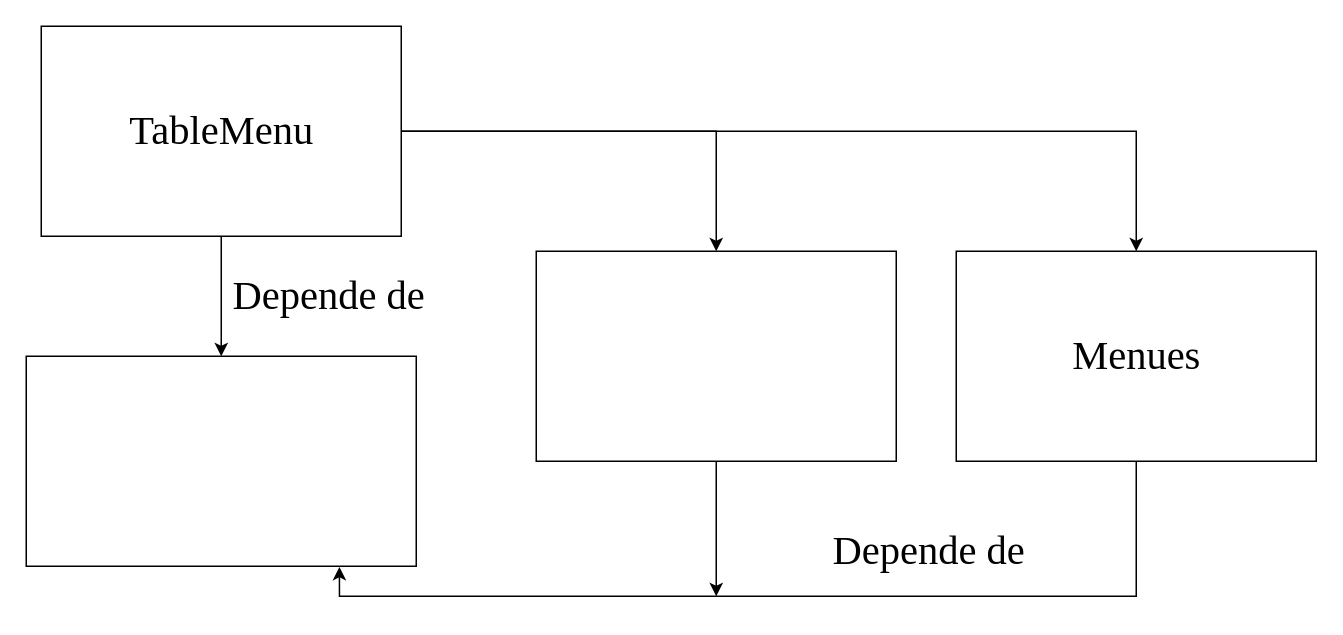
The diagram is 1343 pixels wide and 635 high, and some of its shapes have lost their labels. The shapes that lost their labels are listed below. From the top down, each one's centre as x and y in pixels, then its label:
(715,355): Item
(220,460): Muttable
